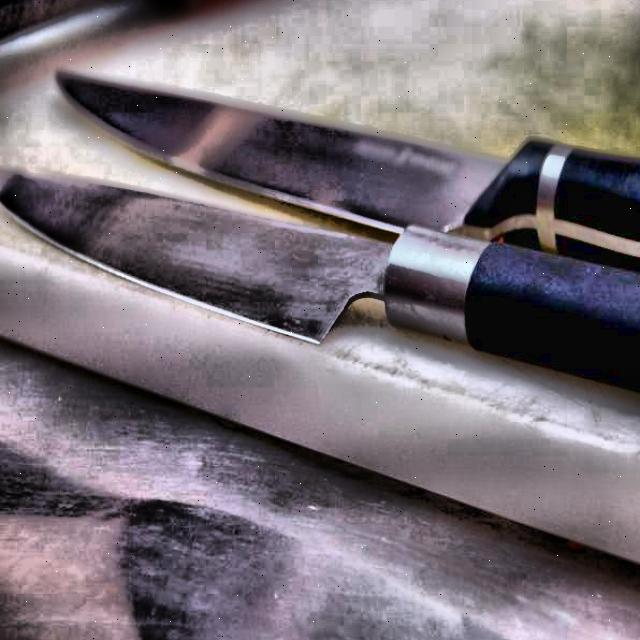knife: (0, 150, 640, 442), (56, 51, 640, 286)
